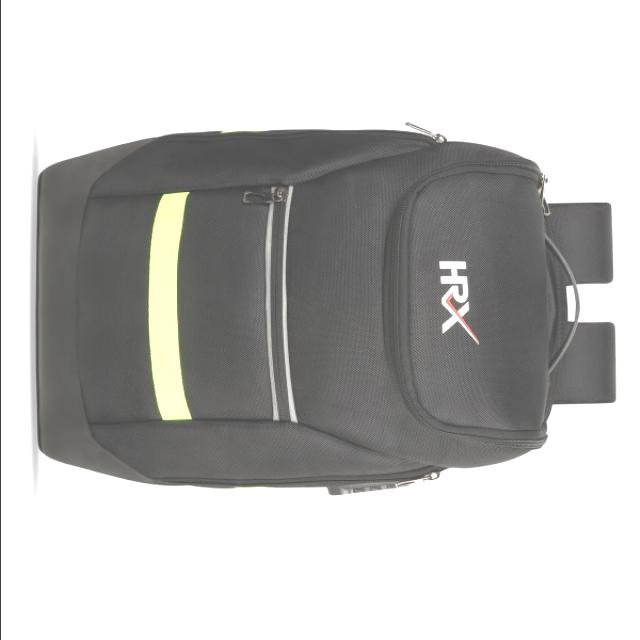backpack: (36, 124, 618, 498)
